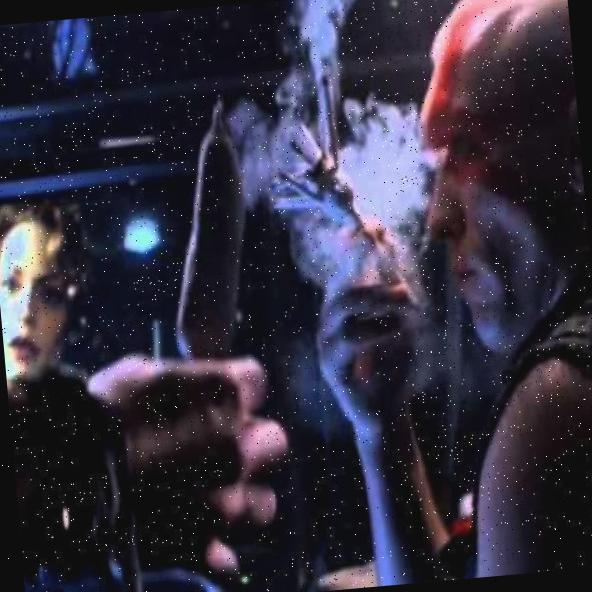smoke: (219, 0, 431, 266)
